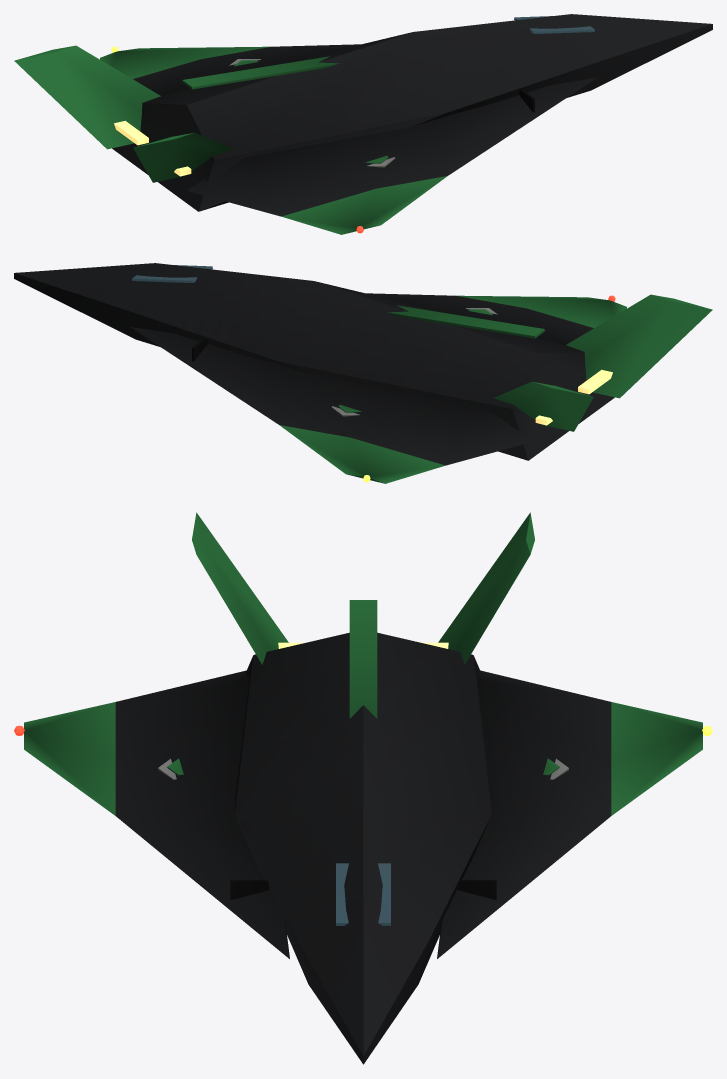
File: u_stealth_lod1.glb
3 views of the same model, one above another, from view 1: azimuth 30°, elevation 25°; view 2: azimuth 150°, elevation 25°; view 3: azimuth 270°, elevation 25° (orthographic). The views are drawn at different scales.
Visible parts, largest first — view 1: Stealth_LOD1_Walls, Stealth_LOD1_Details; view 2: Stealth_LOD1_Walls, Stealth_LOD1_Details; view 3: Stealth_LOD1_Walls, Stealth_LOD1_Details.
Boxes of the visible parts, left/top/right/bottom form: Stealth_LOD1_Walls: left=14, top=14, right=712, bottom=234; Stealth_LOD1_Details: left=111, top=16, right=594, bottom=233; Stealth_LOD1_Walls: left=14, top=263, right=712, bottom=483; Stealth_LOD1_Details: left=132, top=265, right=615, bottom=482; Stealth_LOD1_Walls: left=24, top=512, right=702, bottom=1064; Stealth_LOD1_Details: left=14, top=600, right=712, bottom=925.
Bounding box in the file's own units: 1.13 × 0.1578 × 0.762.
